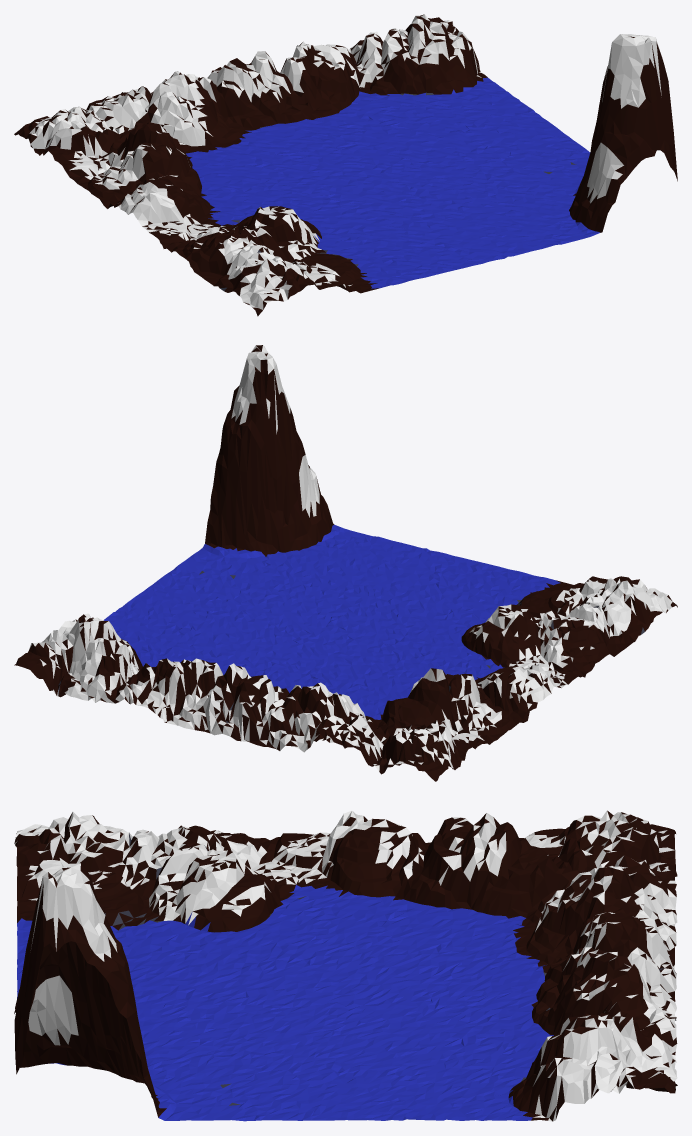
Rendered from First.fbx.
The picture shows the model from 3 angles, top to bottom: view 1: azimuth 30°, elevation 25°; view 2: azimuth 150°, elevation 25°; view 3: azimuth 270°, elevation 25°; orthographic projection. The views are drawn at different scales.
Visible parts, largest first — view 1: First.001; view 2: First.001; view 3: First.001.
Part boxes in pixels (x1,y1,x2,y2): First.001: (14, 14, 677, 316); First.001: (14, 345, 677, 781); First.001: (14, 810, 677, 1121).
Bounding box in the file's own units: 50483 × 20007 × 50476.
